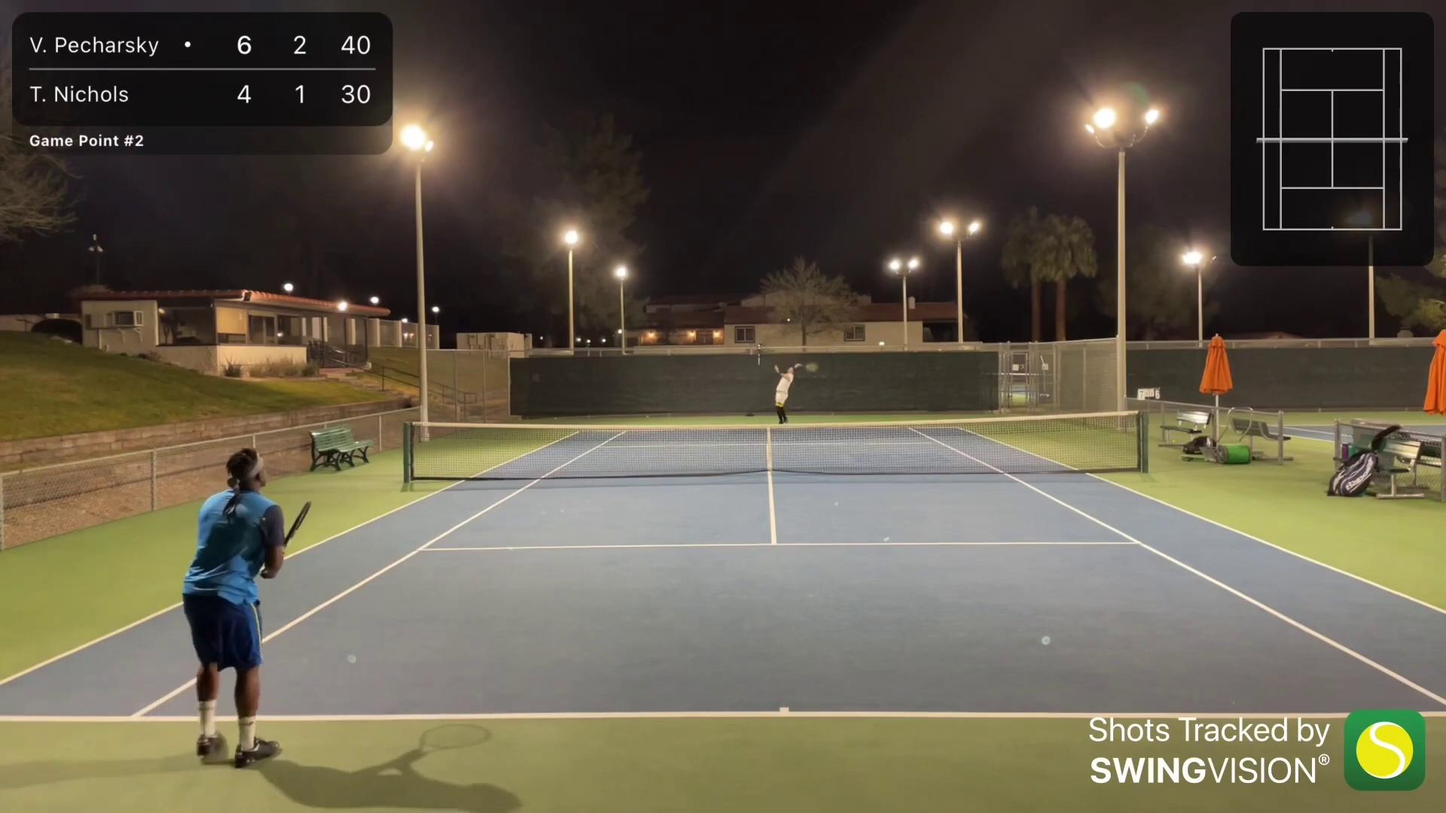ball: (785, 316, 792, 323)
